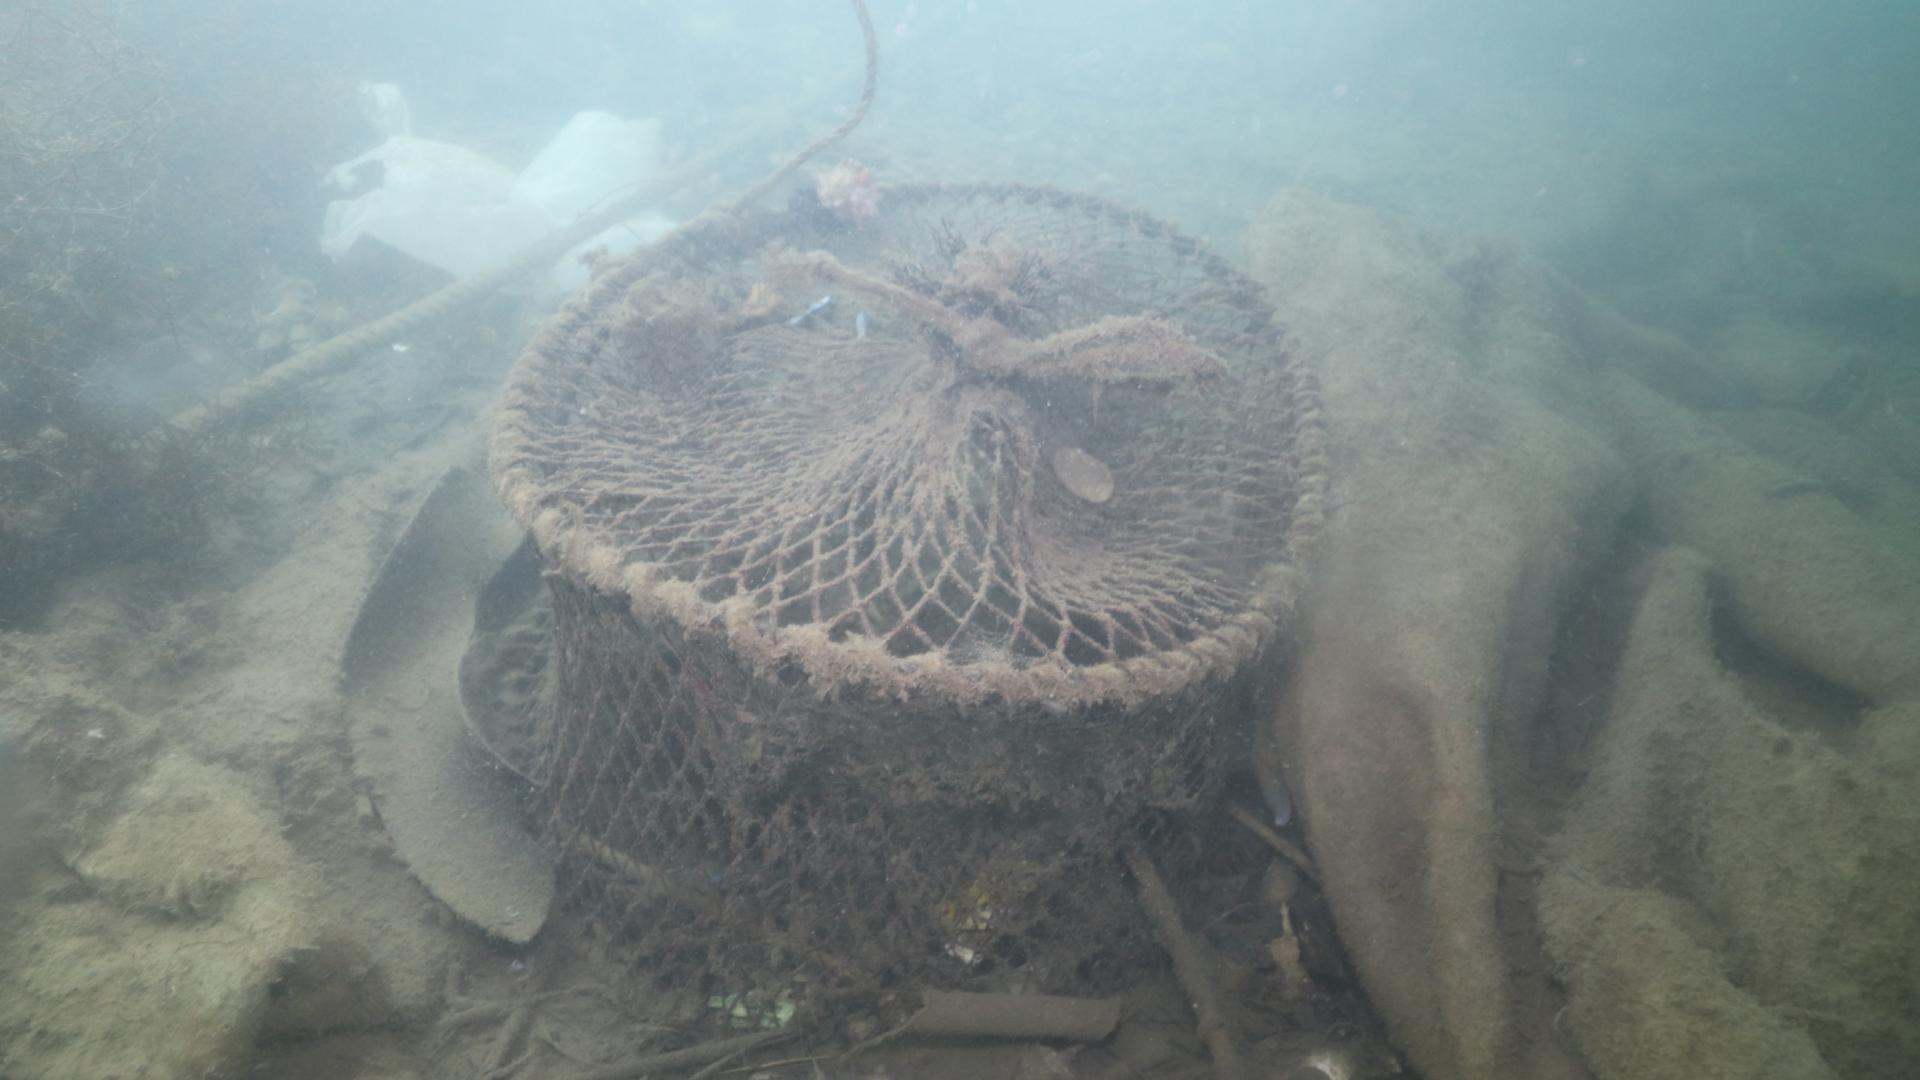circular fish trap: (491, 173, 1331, 1044)
rope: (165, 269, 497, 442), (694, 3, 876, 212)
